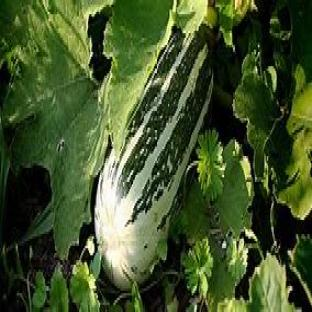Zucchini: (95, 29, 213, 288)
